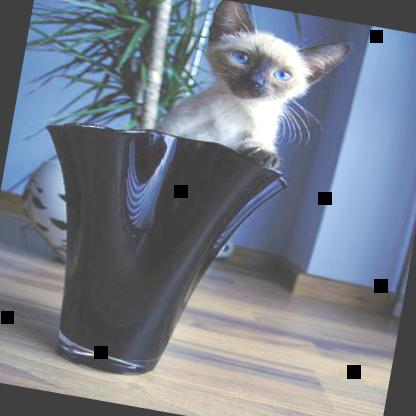cat: (152, 0, 354, 178)
